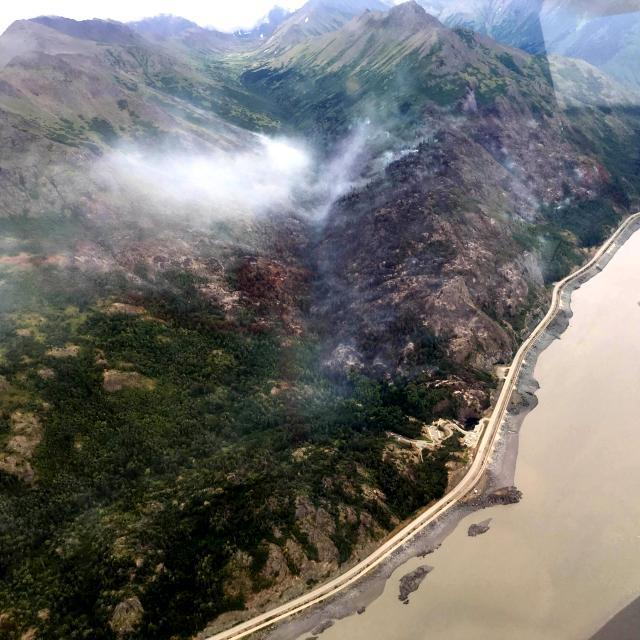Smoke: (68, 88, 379, 246)
